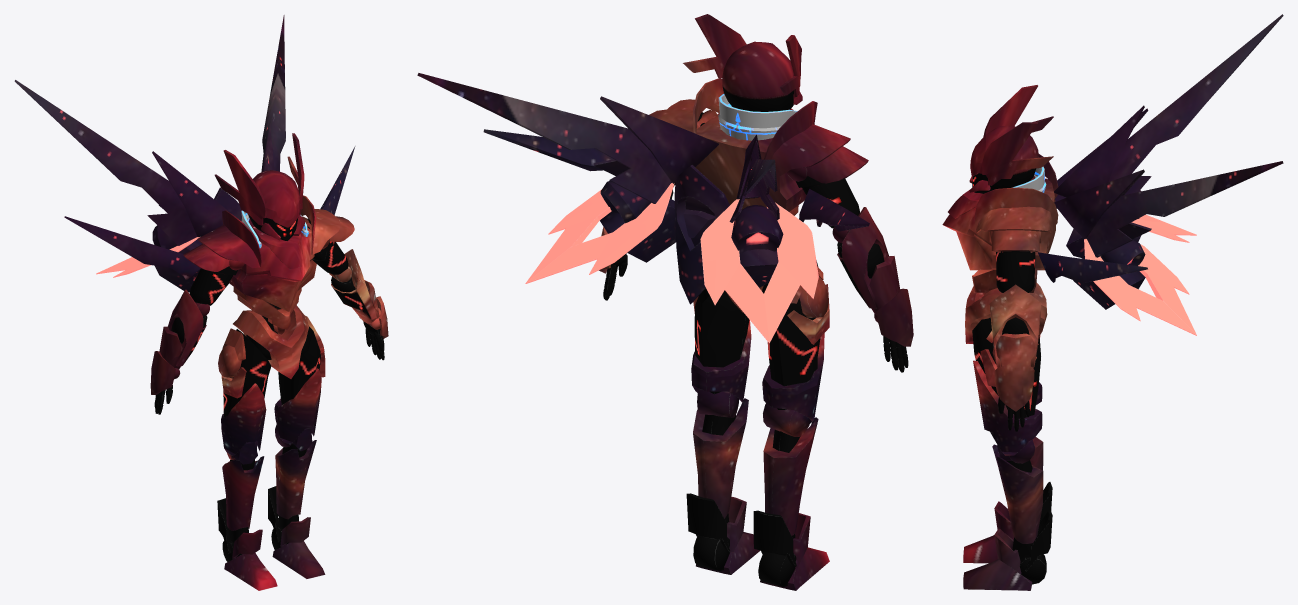
File: Male_6.glb
The picture shows the model from 3 angles, left to right: view 1: azimuth 30°, elevation 25°; view 2: azimuth 150°, elevation 25°; view 3: azimuth 270°, elevation 25°; orthographic projection. The views are drawn at different scales.
Visible parts, largest first — view 1: M1.1, WM2, H, AM, AMR, AMH1.001, AML, AMH2, NTC, AMM2; view 2: WM2, M1.1, H, AM, AMR, AMH1.001, Object001, AML, AMM2; view 3: WM2, M1.1, H, AML, AM, AMH2, AMM1, NTC.
Part boxes in pixels (left/top/right/bottom): M1.1: left=150, top=216, right=388, bottom=590; WM2: left=14, top=15, right=355, bottom=292; H: left=214, top=133, right=304, bottom=240; AM: left=229, top=227, right=316, bottom=311; AMR: left=197, top=210, right=261, bottom=268; AMH1.001: left=167, top=289, right=206, bottom=366; AML: left=301, top=195, right=340, bottom=254; AMH2: left=331, top=249, right=376, bottom=319; NTC: left=248, top=219, right=302, bottom=269; AMM2: left=183, top=244, right=229, bottom=271; WM2: left=417, top=73, right=869, bottom=343; M1.1: left=599, top=110, right=913, bottom=590; H: left=683, top=14, right=802, bottom=111; AM: left=695, top=113, right=806, bottom=211; AMR: left=763, top=101, right=850, bottom=177; AMH1.001: left=837, top=207, right=888, bottom=308; Object001: left=718, top=94, right=797, bottom=140; AML: left=660, top=78, right=723, bottom=133; AMM2: left=807, top=146, right=868, bottom=183; WM2: left=1038, top=14, right=1283, bottom=335; M1.1: left=963, top=231, right=1052, bottom=590; H: left=969, top=85, right=1053, bottom=193; AML: left=975, top=187, right=1058, bottom=232; AM: left=942, top=178, right=1055, bottom=270; AMH2: left=989, top=284, right=1041, bottom=367; AMM1: left=991, top=230, right=1039, bottom=251; NTC: left=948, top=176, right=1035, bottom=218.
Size of the model in its own units: 3.77 by 5.34 by 3.41.
3 materials, 3 textured.
